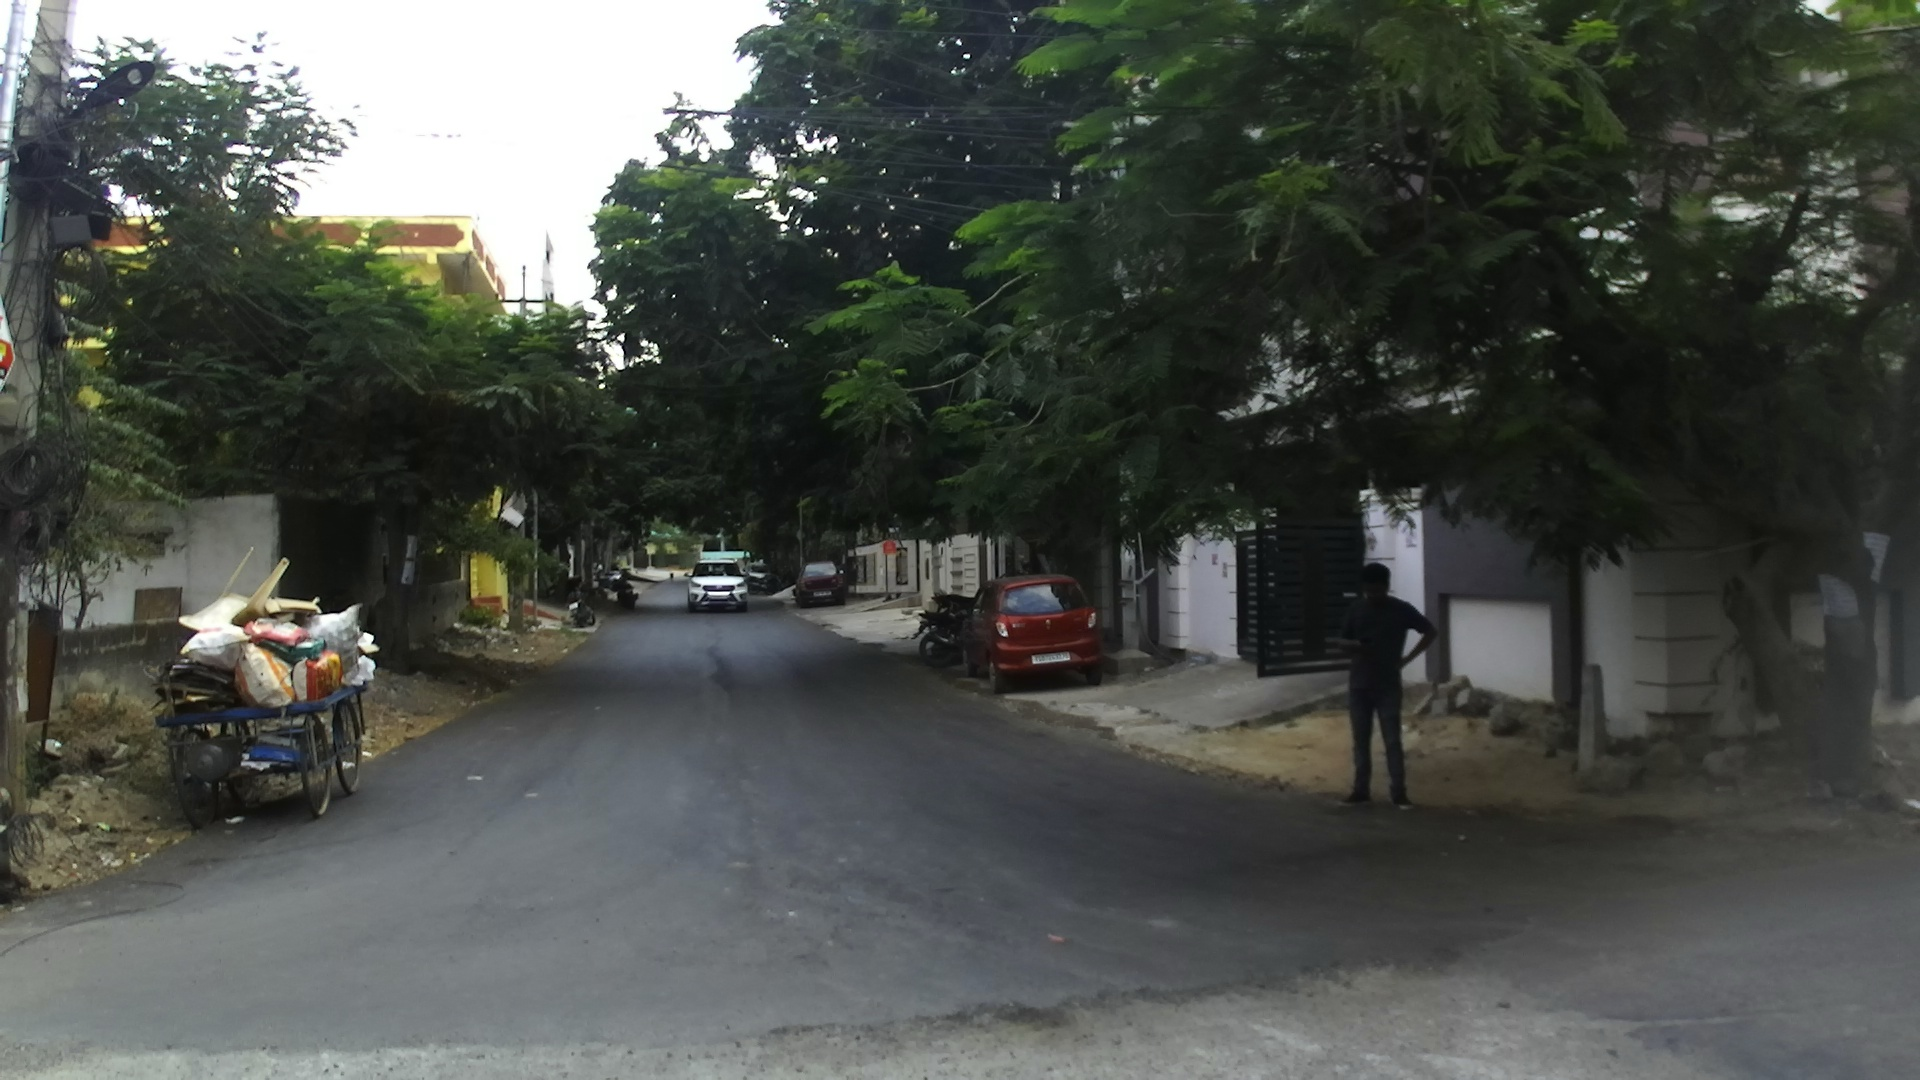vehicle: (156, 593, 378, 829), (957, 574, 1106, 688), (687, 574, 748, 611), (794, 563, 844, 605)
